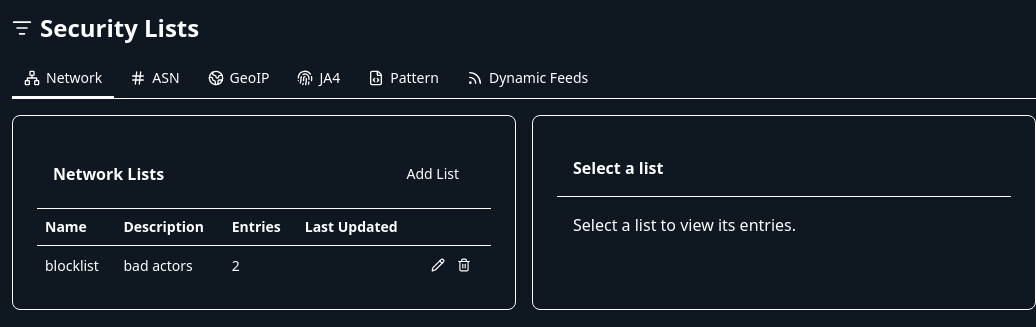
Test: SecurityLists page › switches to Dynamic Feeds tab
Expected: the text "blocklist" is shown, [37,246,115,285]
Click the button "Dynamic Feeds" at (528, 79), box [455,60,600,98]
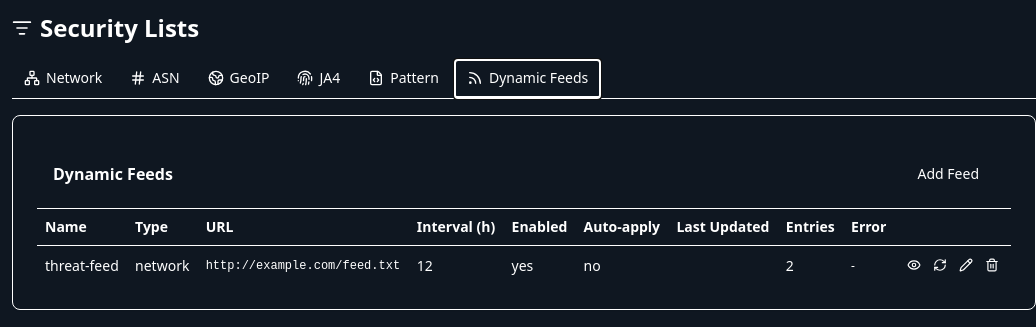
Result: the text "threat-feed" is shown at [37,246,127,285]
